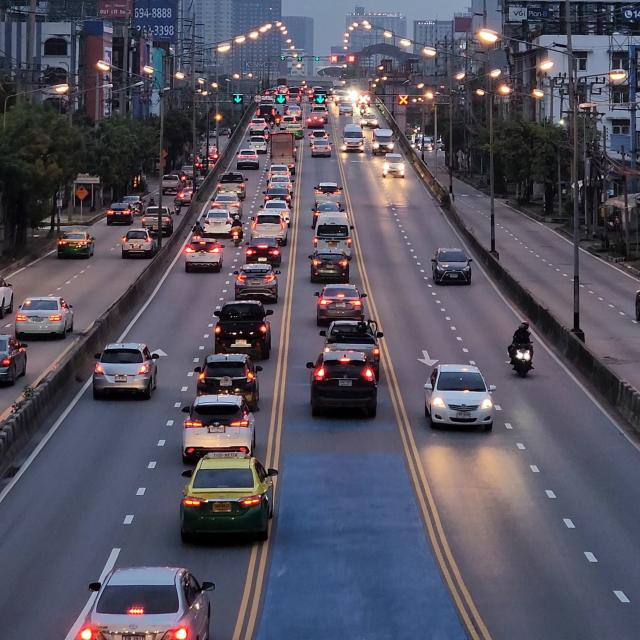Car: (80, 566, 218, 640), (178, 453, 279, 543), (422, 363, 498, 438), (178, 396, 261, 462), (304, 352, 381, 419), (194, 352, 266, 414), (91, 340, 158, 404), (210, 301, 280, 357), (320, 317, 385, 365), (17, 294, 74, 339), (427, 243, 477, 289), (312, 284, 370, 320), (232, 265, 283, 299), (180, 234, 225, 269), (310, 248, 355, 282), (55, 232, 97, 261), (121, 228, 159, 258)
